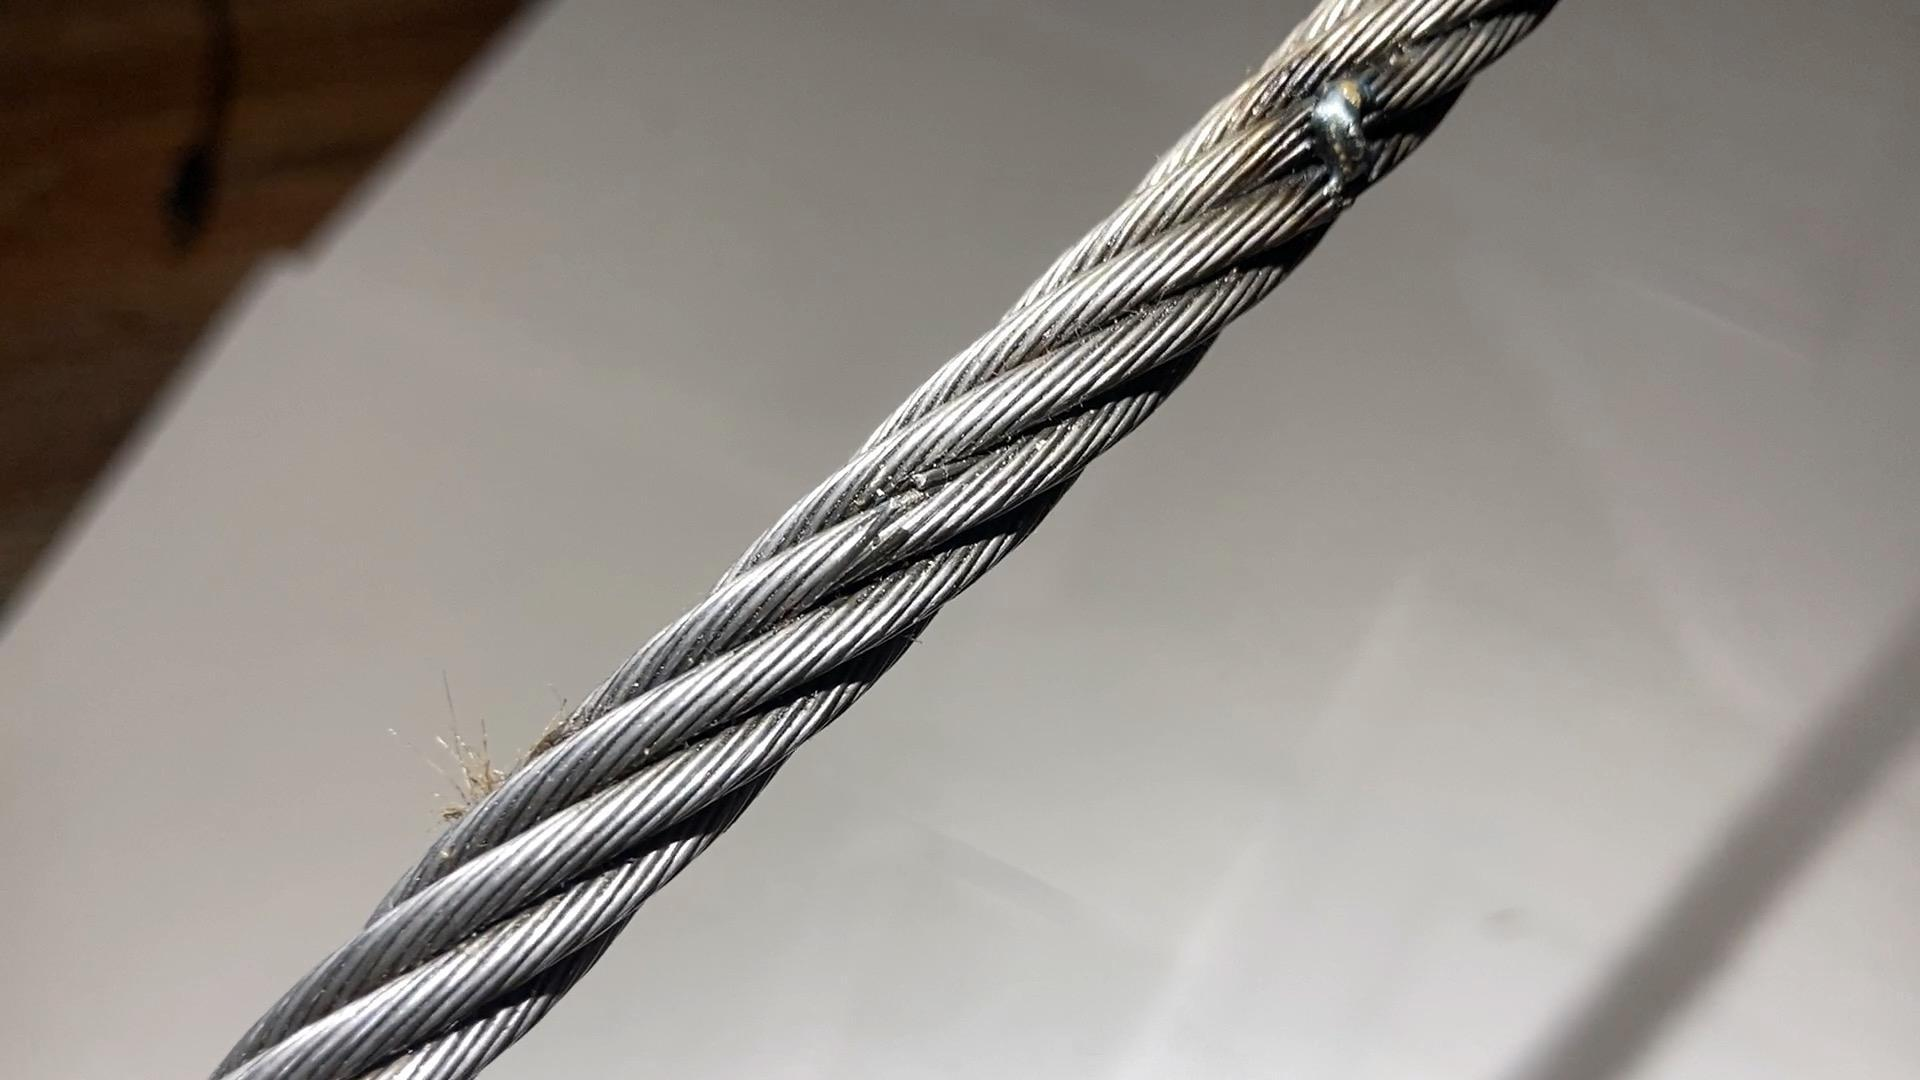thunderbolt: (1271, 80, 1396, 190)
